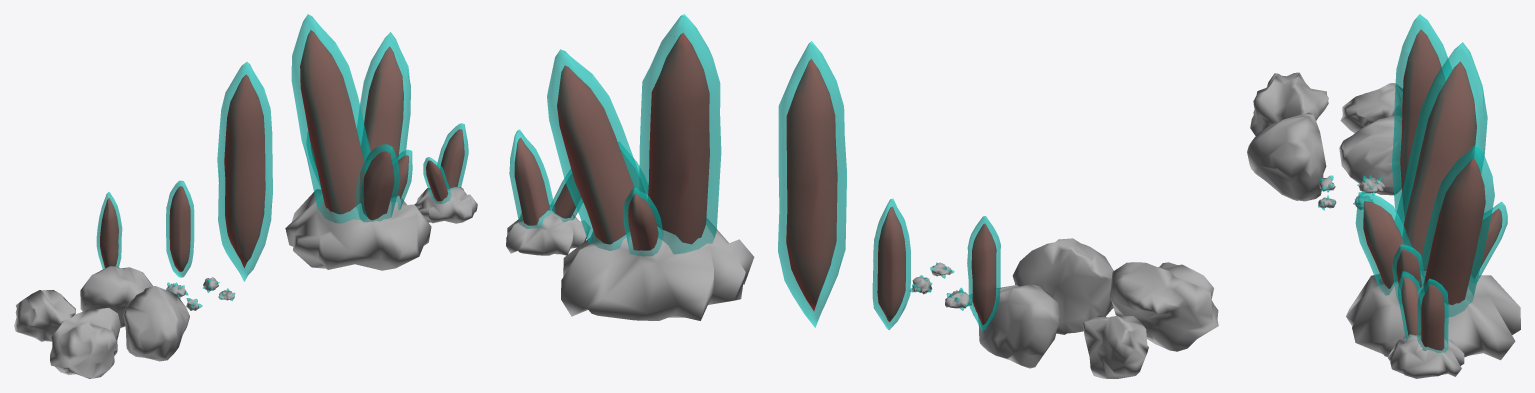
The model's file is RockAsset_001.fbx.
3 views of the same model, side by side, from view 1: azimuth 30°, elevation 25°; view 2: azimuth 150°, elevation 25°; view 3: azimuth 270°, elevation 25° (orthographic). The views are drawn at different scales.
Visible parts, largest first — view 1: BigEnergy_001, BigEnergy_002, RockMesh_002, RockMesh_003, Energy_003, RockMesh_001, Energy_001, RockMesh_004, Energy_002; view 2: BigEnergy_001, BigEnergy_002, RockMesh_002, Energy_003, RockMesh_003, RockMesh_001, Energy_001, RockMesh_004, Energy_002; view 3: BigEnergy_001, BigEnergy_002, Energy_003, RockMesh_003, RockMesh_001, RockMesh_002, RockMesh_004, Ore_001.
Part boxes in pixels (left/top/right/bottom): BigEnergy_001: left=285, top=14, right=431, bottom=270; BigEnergy_002: left=217, top=62, right=272, bottom=281; RockMesh_002: left=50, top=308, right=120, bottom=378; RockMesh_003: left=123, top=286, right=189, bottom=361; Energy_003: left=414, top=123, right=477, bottom=223; RockMesh_001: left=80, top=265, right=152, bottom=327; Energy_001: left=166, top=180, right=194, bottom=277; RockMesh_004: left=14, top=290, right=75, bottom=341; Energy_002: left=96, top=192, right=122, bottom=268; BigEnergy_001: left=547, top=14, right=754, bottom=320; BigEnergy_002: left=778, top=41, right=846, bottom=327; RockMesh_002: left=1109, top=262, right=1218, bottom=351; Energy_003: left=506, top=129, right=590, bottom=255; RockMesh_003: left=1012, top=238, right=1113, bottom=334; RockMesh_001: left=978, top=284, right=1060, bottom=368; Energy_001: left=872, top=198, right=910, bottom=329; RockMesh_004: left=1082, top=315, right=1148, bottom=378; Energy_002: left=967, top=216, right=1000, bottom=330; BigEnergy_001: left=1346, top=42, right=1520, bottom=360; BigEnergy_002: left=1392, top=14, right=1451, bottom=223; Energy_003: left=1388, top=271, right=1464, bottom=378; RockMesh_003: left=1247, top=112, right=1326, bottom=201; RockMesh_001: left=1339, top=115, right=1401, bottom=195; RockMesh_002: left=1250, top=72, right=1328, bottom=135; RockMesh_004: left=1340, top=83, right=1402, bottom=133; Ore_001: left=1357, top=175, right=1384, bottom=195.
Size of the model in its own units: 11.75 by 5.65 by 4.94.
